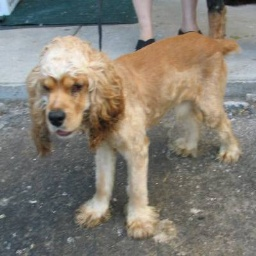dog: (26, 32, 242, 240)
